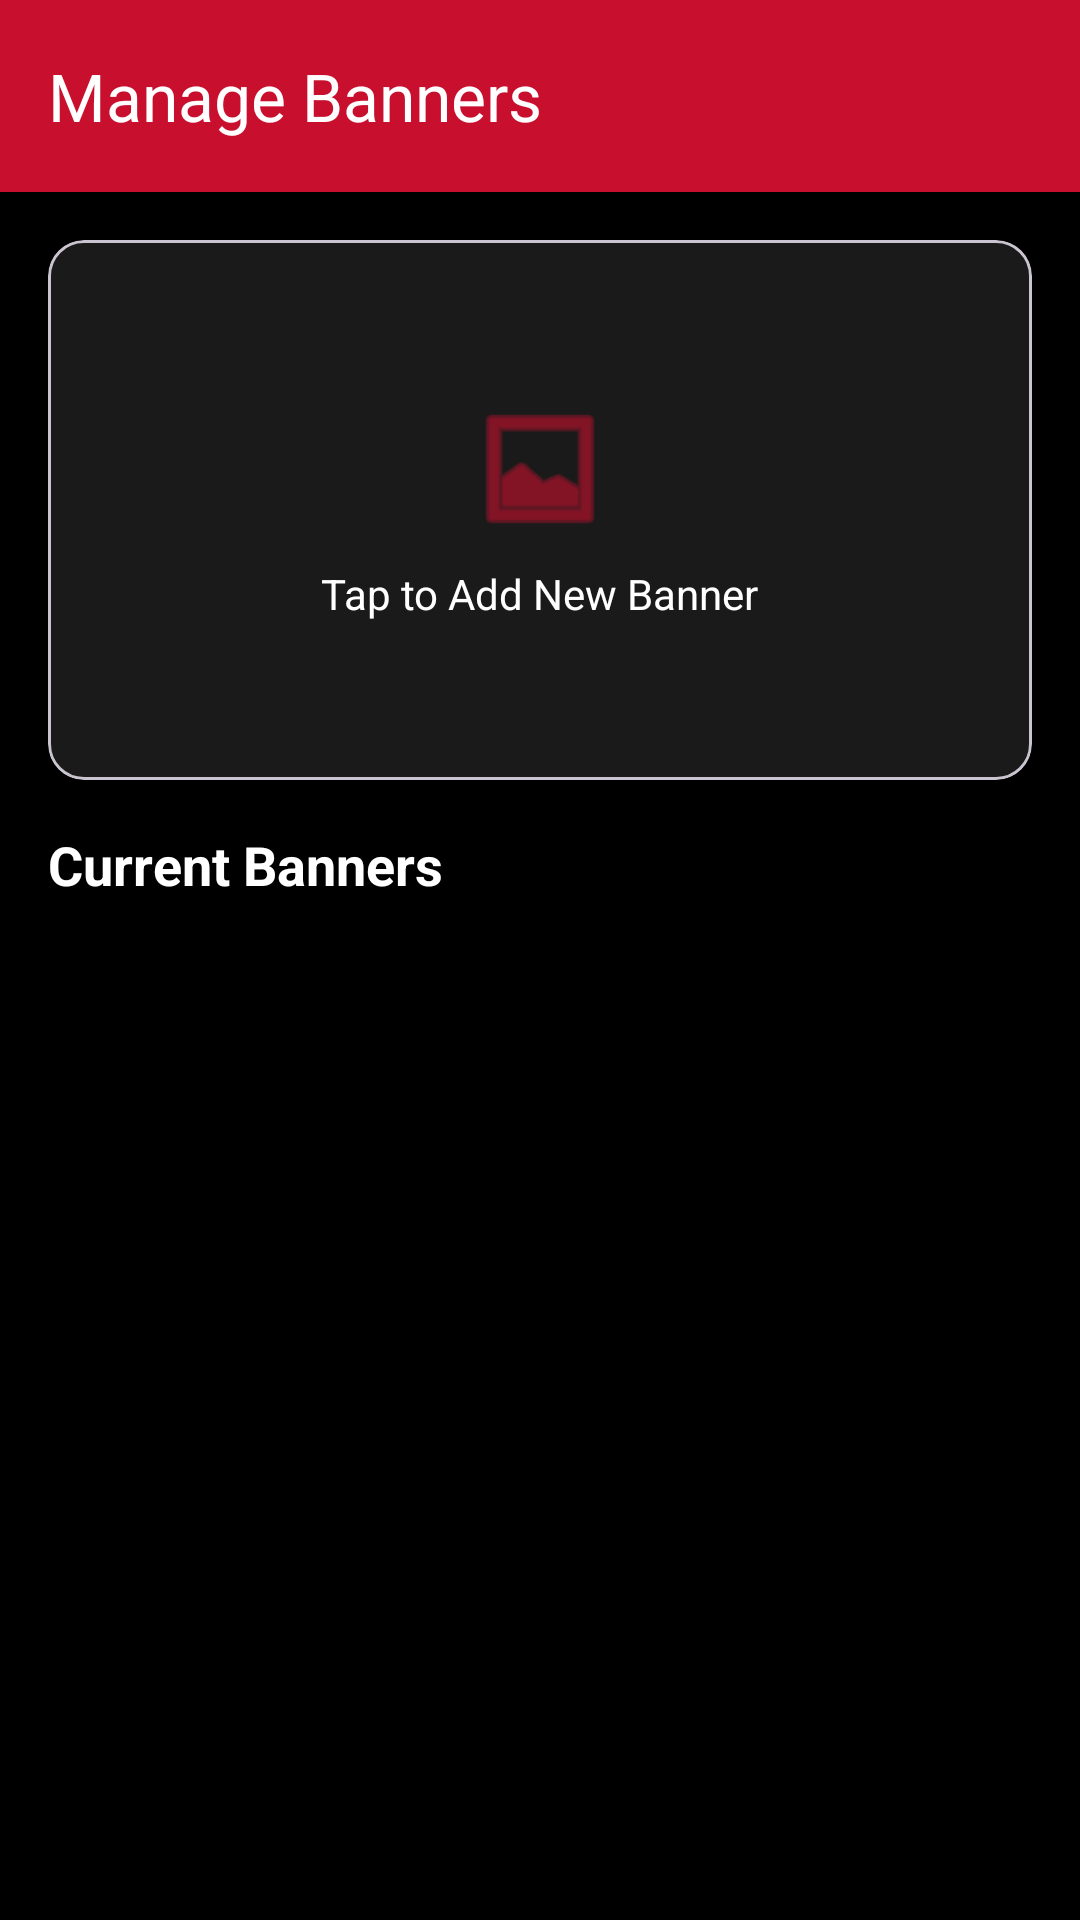

Locate icon controls on the screen. Image size 1080px×1920px, boxes as rect(x1, y1, x2, y2).
gallery: rect(486, 415, 594, 523)
